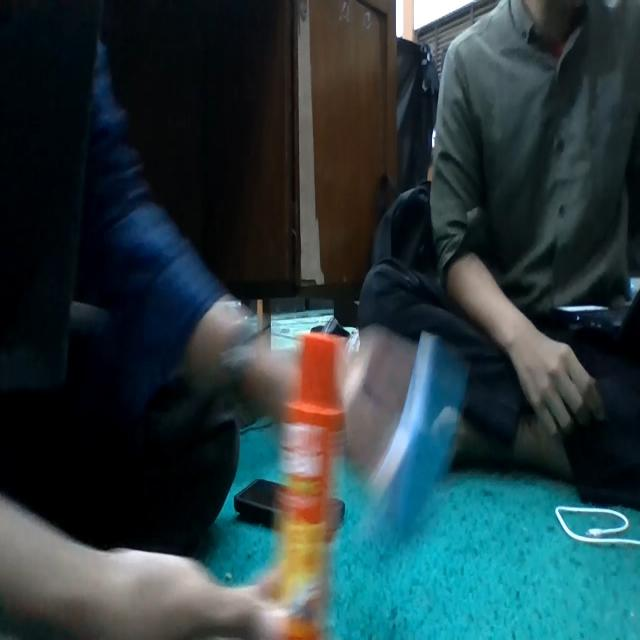Boncabe: (266, 333, 344, 639)
Powerbank: (368, 332, 468, 539)
